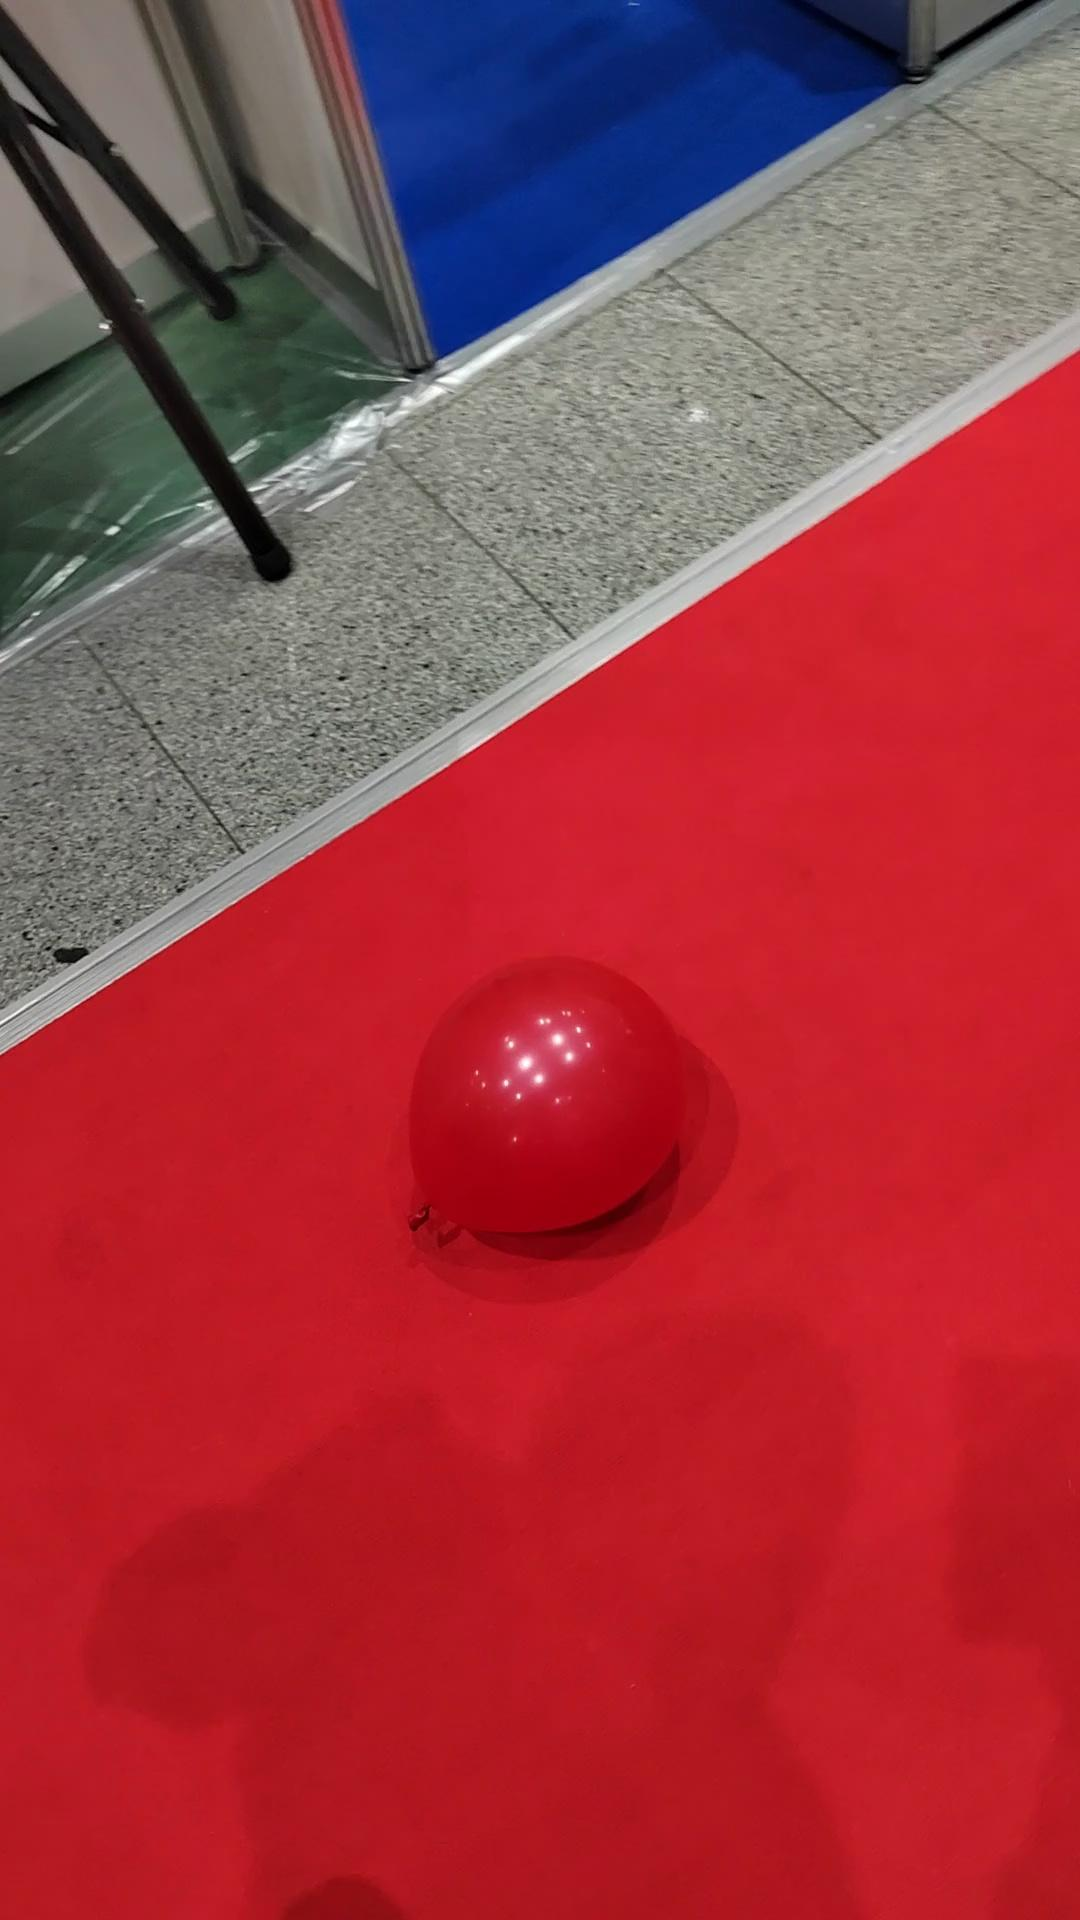red: (406, 957, 683, 1237)
